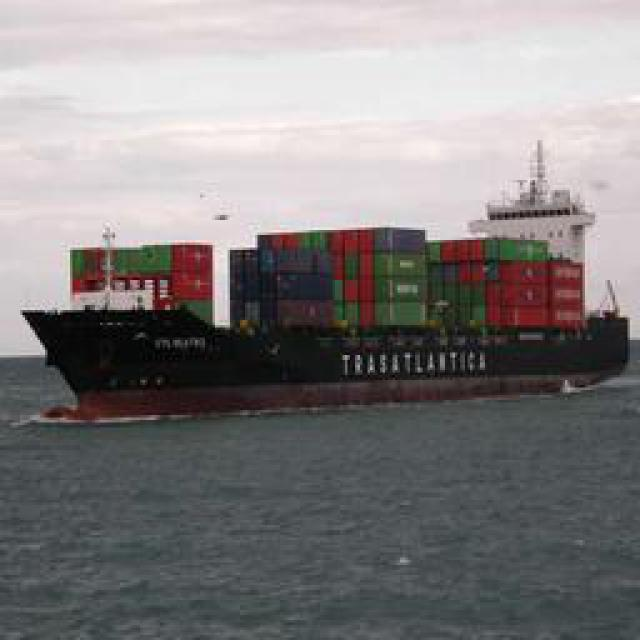Ship: (20, 180, 628, 393)
